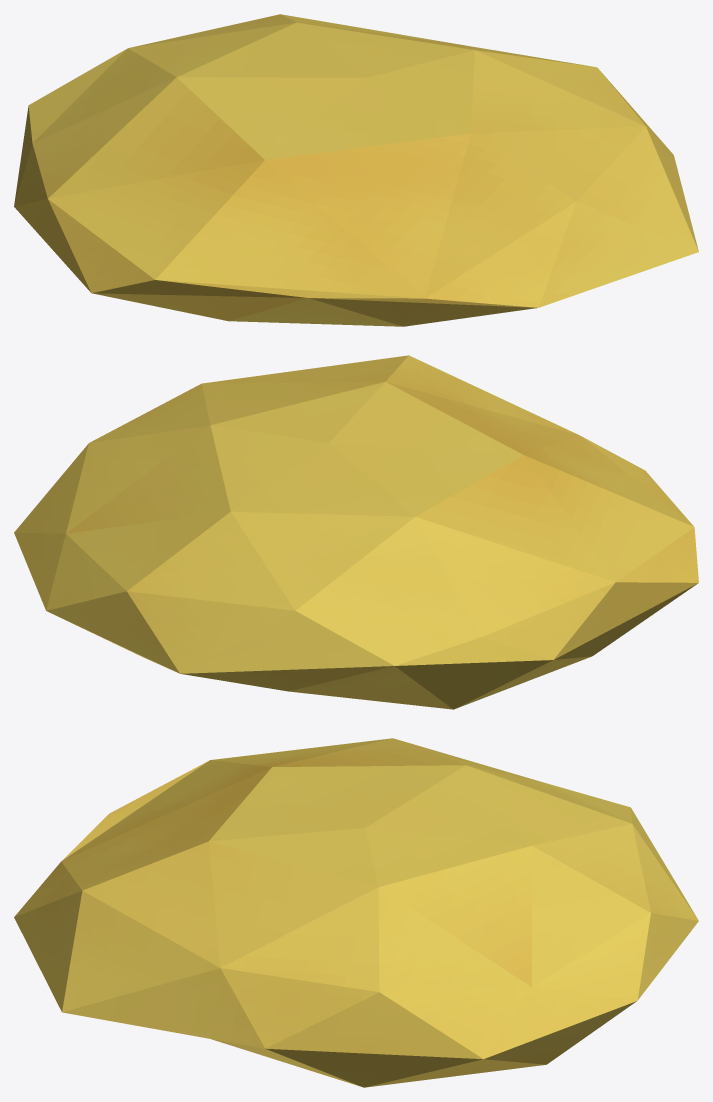
The model's file is Island2.glb.
3 views of the same model, one above another, from view 1: azimuth 30°, elevation 25°; view 2: azimuth 150°, elevation 25°; view 3: azimuth 270°, elevation 25° (orthographic). The views are drawn at different scales.
Visible parts, largest first — view 1: Icosphere; view 2: Icosphere; view 3: Icosphere.
Boxes of the visible parts, x1=… form: Icosphere: x1=14, y1=14, x2=698, y2=326; Icosphere: x1=14, y1=355, x2=698, y2=709; Icosphere: x1=14, y1=738, x2=698, y2=1087.
Size of the model in its own units: 2.05 by 0.6073 by 2.13.
1 material, 1 textured.
